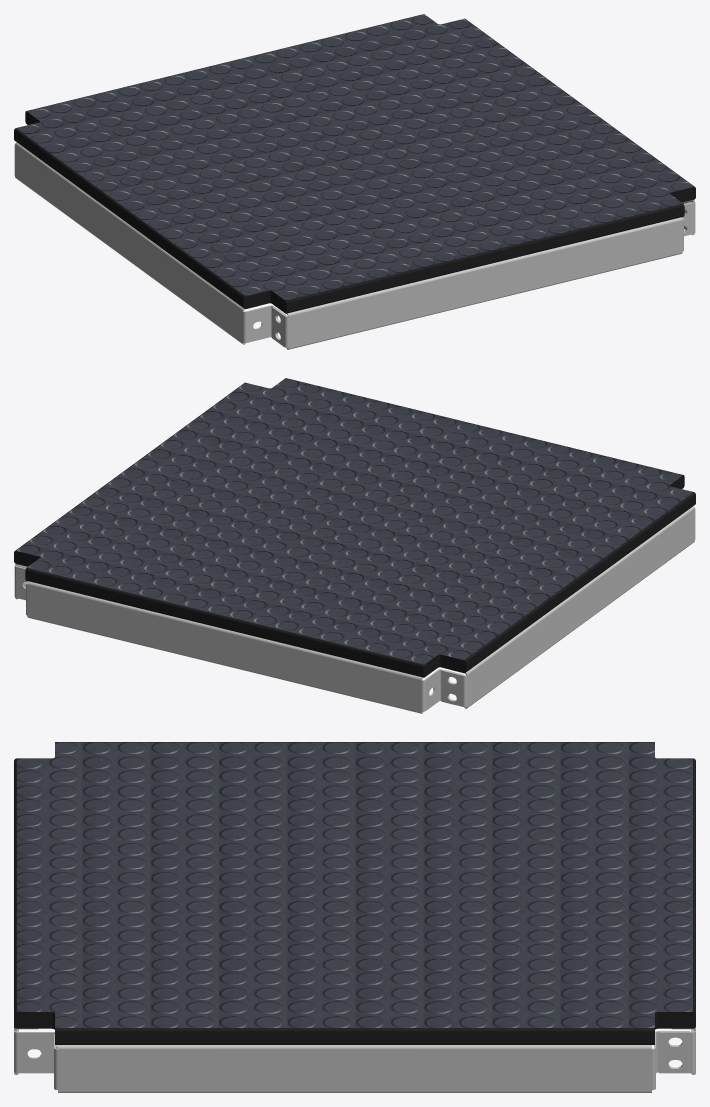
3 views of the same model, one above another, from view 1: azimuth 30°, elevation 25°; view 2: azimuth 150°, elevation 25°; view 3: azimuth 270°, elevation 25° (orthographic). The views are drawn at different scales.
Parts seen in each view (by area): view 1: Bryła1 (×3); view 2: Bryła1 (×3); view 3: Bryła1 (×4).
Part boxes in pixels (bbox=[...]): Bryła1 (×3): bbox=[14, 14, 695, 349]; Bryła1 (×3): bbox=[14, 378, 695, 713]; Bryła1 (×4): bbox=[14, 742, 695, 1092].
Bounding box in the file's own units: 0.7 × 0.0729 × 0.7.
Materials: 3 (2 with a texture image).
